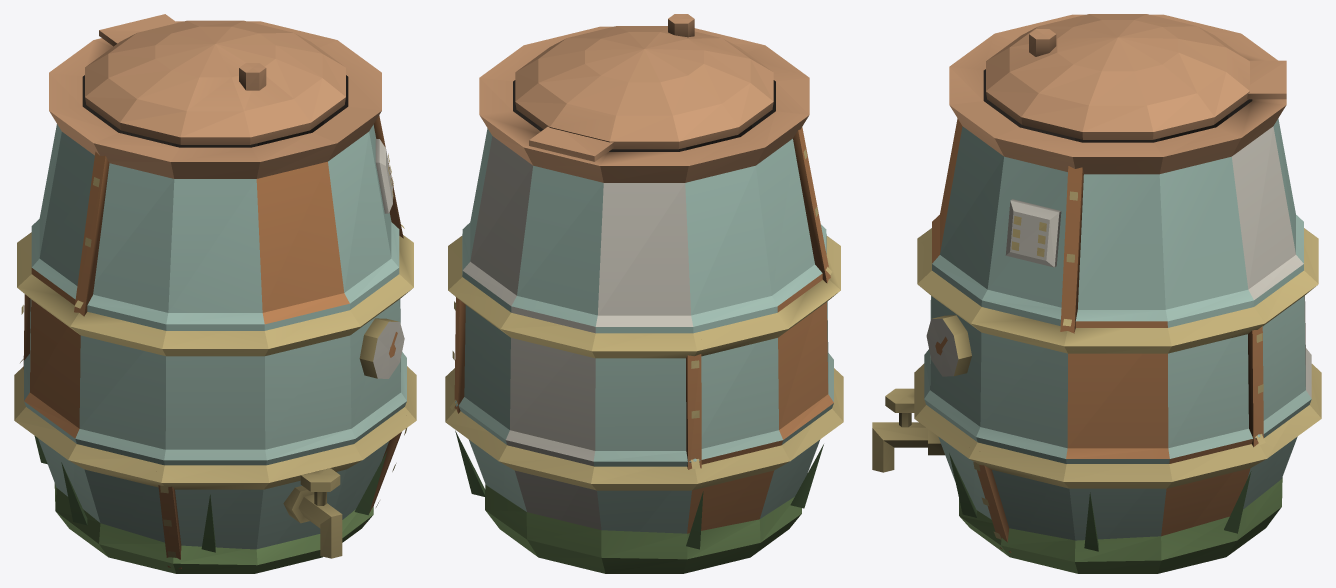
File: butt.glb
3 renders of one model, left to right at view 1: azimuth 30°, elevation 25°; view 2: azimuth 150°, elevation 25°; view 3: azimuth 270°, elevation 25°, orthographic. The views are drawn at different scales.
Visible parts, largest first — view 1: butt.001; view 2: butt.001; view 3: butt.001.
Boxes of the visible parts, <box> form: butt.001: <box>14,14,416,573</box>; butt.001: <box>445,14,843,573</box>; butt.001: <box>872,14,1321,573</box>.
Size of the model in its own units: 0.8936 by 1.15 by 0.9856.
